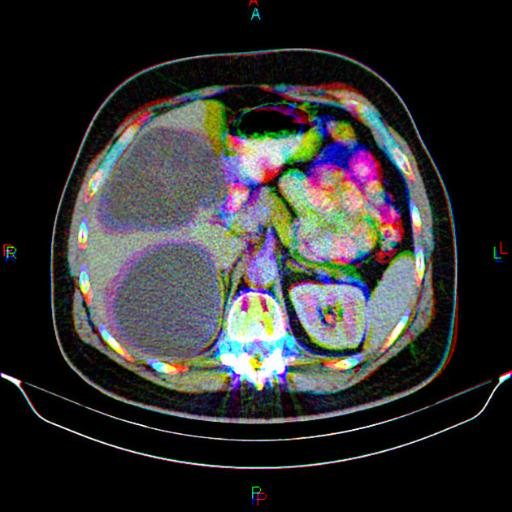Cyst: (105, 241, 222, 358), (97, 127, 225, 230)
